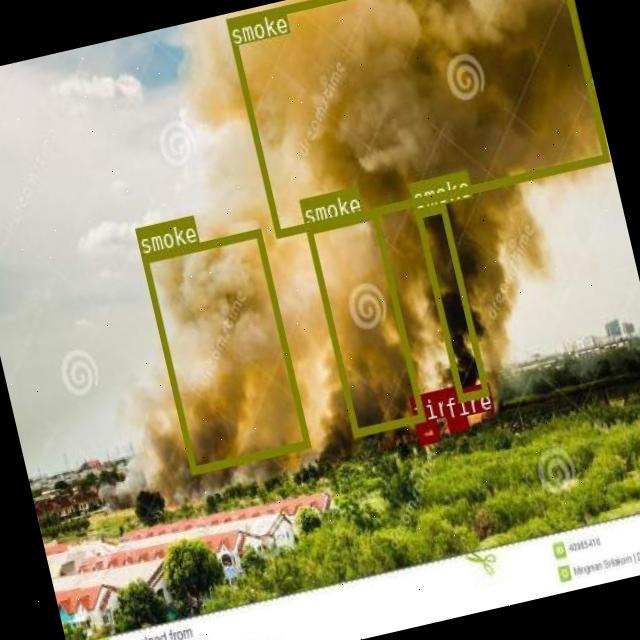fire: (415, 419, 438, 444), (447, 415, 467, 432)
smoke: (224, 0, 608, 237), (140, 227, 309, 473), (304, 210, 423, 436), (413, 202, 487, 401)
